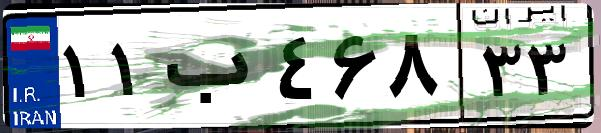1: (57, 26, 110, 100), (110, 28, 158, 98)
3: (475, 38, 525, 113), (525, 38, 570, 115)
4: (270, 28, 330, 110)
6: (330, 28, 385, 110)
8: (385, 28, 445, 110)
ب: (158, 20, 270, 120)
